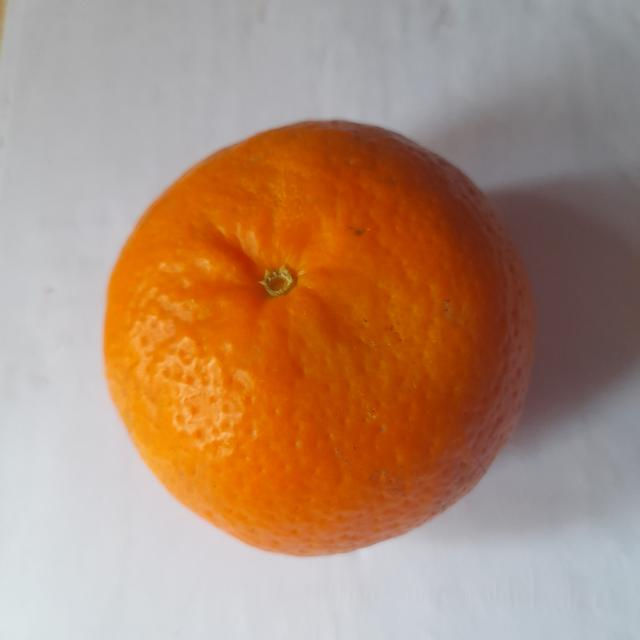Cam: (80, 119, 546, 562)
